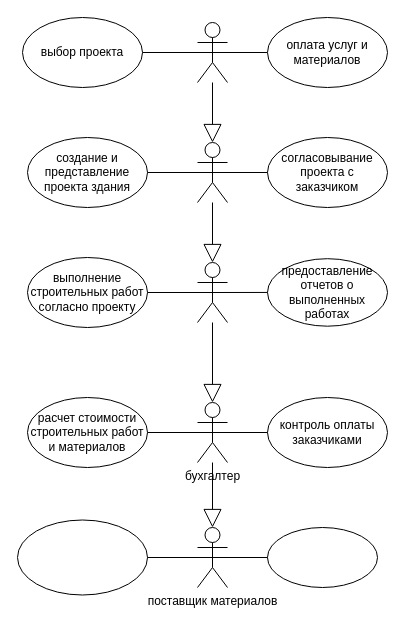
Image size: 405x626. Some labels were removed from this diagram. Here are the shapes that lost their labels. From the top down, the box of each, then its label:
(196, 22, 228, 82): клиент
(196, 142, 228, 202): архитектор
(196, 262, 228, 322): рабочий
(16, 519, 148, 595): предоставление информации о наличии и стоимости материала
(266, 526, 378, 588): поставка материалов на строительную площадку
